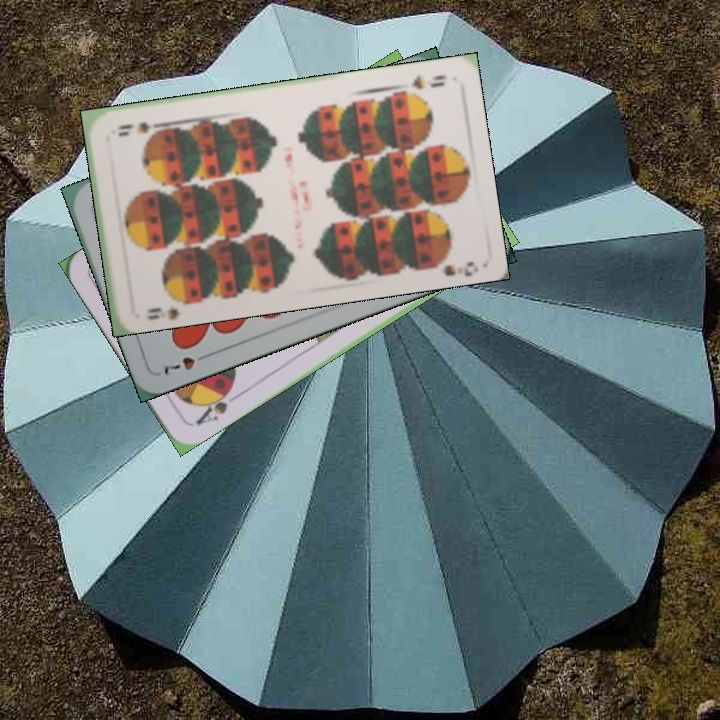H7: (159, 348, 214, 378)
S9: (144, 292, 193, 316), (406, 71, 450, 92)
SA: (192, 382, 242, 428)
